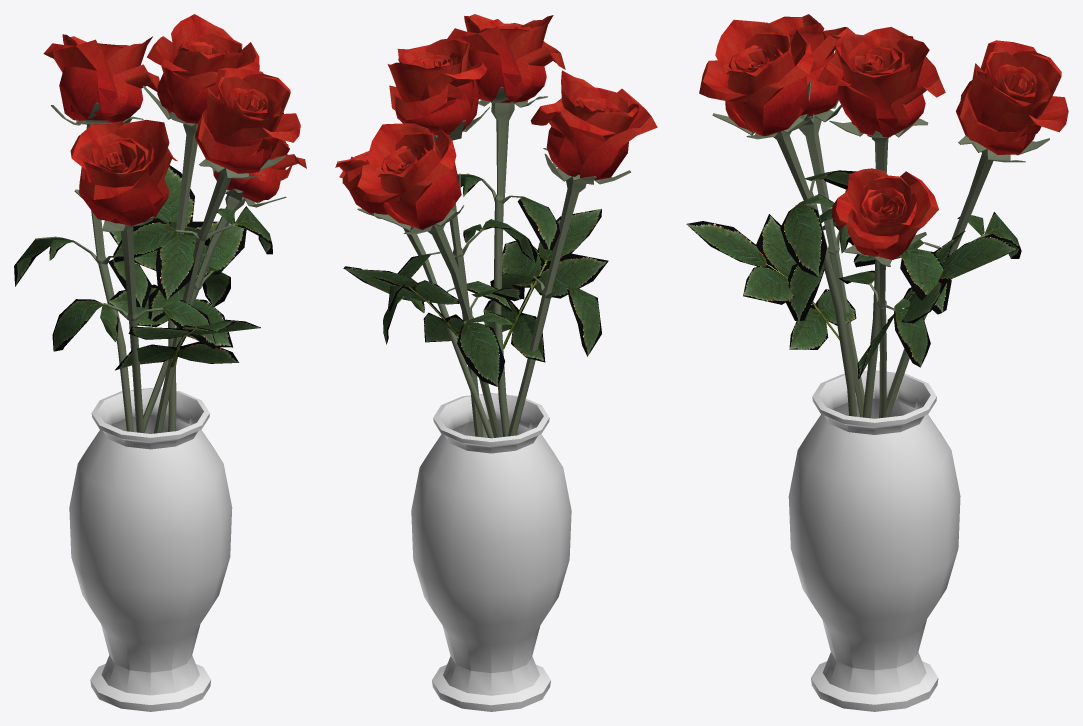
File: sh_scopia_roses.glb
The picture shows the model from 3 angles, left to right: view 1: azimuth 30°, elevation 25°; view 2: azimuth 150°, elevation 25°; view 3: azimuth 270°, elevation 25°; orthographic projection. The views are drawn at different scales.
Bounding box in the file's own units: 0.228 × 0.529 × 0.273.
Materials: 4 (2 with a texture image).
